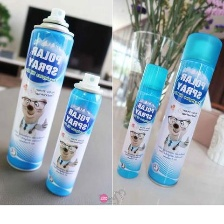aerosol_cans: (144, 30, 224, 191), (3, 5, 76, 174), (42, 68, 104, 198), (113, 58, 173, 183)
